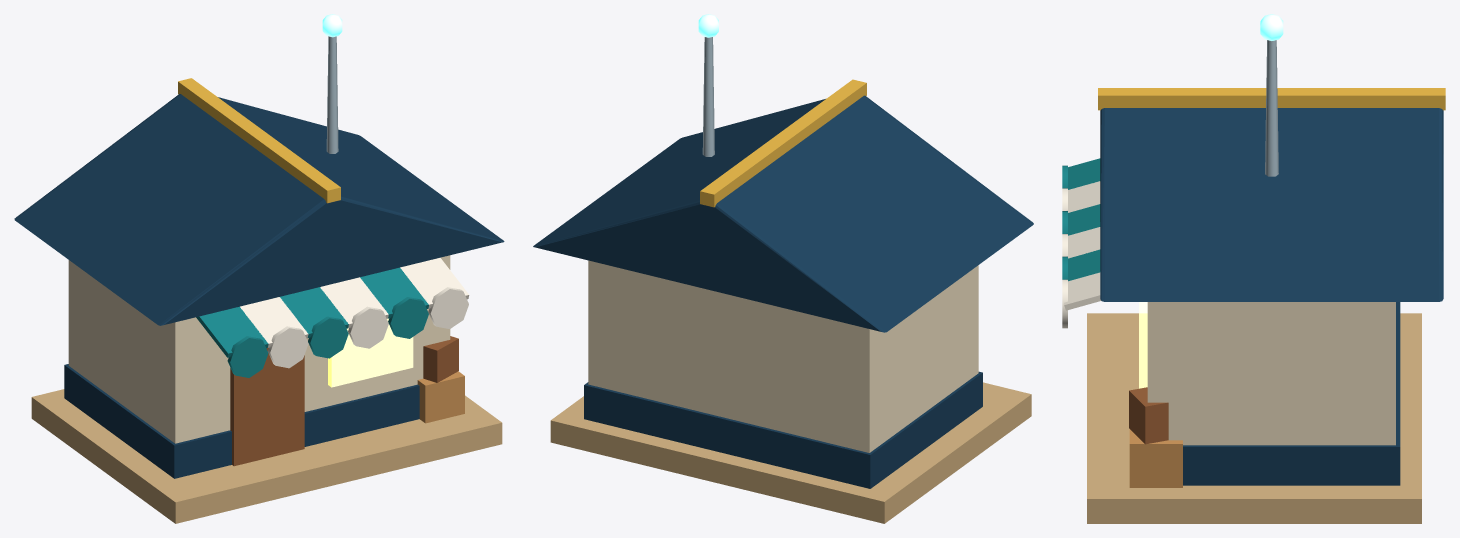
Rendered from staff-center.glb.
3 views of the same model, side by side, from view 1: azimuth 30°, elevation 25°; view 2: azimuth 150°, elevation 25°; view 3: azimuth 270°, elevation 25° (orthographic). The views are drawn at different scales.
Parts seen in each view (by area): view 1: Mesh_navy, Mesh_cream, Mesh_sandStone, Mesh_teal, Mesh_warmWhite, Mesh_wood, Mesh_gold, Mesh_glowWarm, Mesh_lightWood, Mesh_steelLight; view 2: Mesh_navy, Mesh_cream, Mesh_sandStone, Mesh_gold, Mesh_steelLight; view 3: Mesh_navy, Mesh_cream, Mesh_sandStone, Mesh_gold, Mesh_warmWhite, Mesh_teal, Mesh_lightWood, Mesh_wood, Mesh_steelLight, Mesh_glowWarm, Mesh_glowCyan.
Boxes of the visible parts, x1,y1,x2,y2 form: Mesh_navy: (14, 94, 504, 478); Mesh_cream: (68, 255, 450, 443); Mesh_sandStone: (31, 389, 502, 523); Mesh_teal: (196, 267, 428, 377); Mesh_warmWhite: (240, 257, 469, 368); Mesh_wood: (230, 336, 458, 466); Mesh_gold: (178, 78, 340, 203); Mesh_glowWarm: (328, 318, 413, 387); Mesh_lightWood: (417, 371, 464, 423); Mesh_steelLight: (326, 36, 338, 153); Mesh_navy: (533, 95, 1033, 488); Mesh_cream: (588, 260, 978, 452); Mesh_sandStone: (550, 382, 1031, 523); Mesh_gold: (700, 79, 866, 207); Mesh_steelLight: (702, 37, 714, 156); Mesh_navy: (1100, 108, 1443, 485); Mesh_cream: (1147, 302, 1395, 445); Mesh_sandStone: (1087, 313, 1421, 523); Mesh_gold: (1098, 88, 1445, 110); Mesh_warmWhite: (1062, 181, 1101, 328); Mesh_teal: (1062, 158, 1100, 281); Mesh_lightWood: (1129, 429, 1182, 487); Mesh_wood: (1129, 387, 1168, 444); Mesh_steelLight: (1265, 40, 1278, 176); Mesh_glowWarm: (1139, 302, 1147, 388); Mesh_glowCyan: (1260, 14, 1283, 40).
Size of the model in its own units: 4.02 by 4.37 by 3.32.
